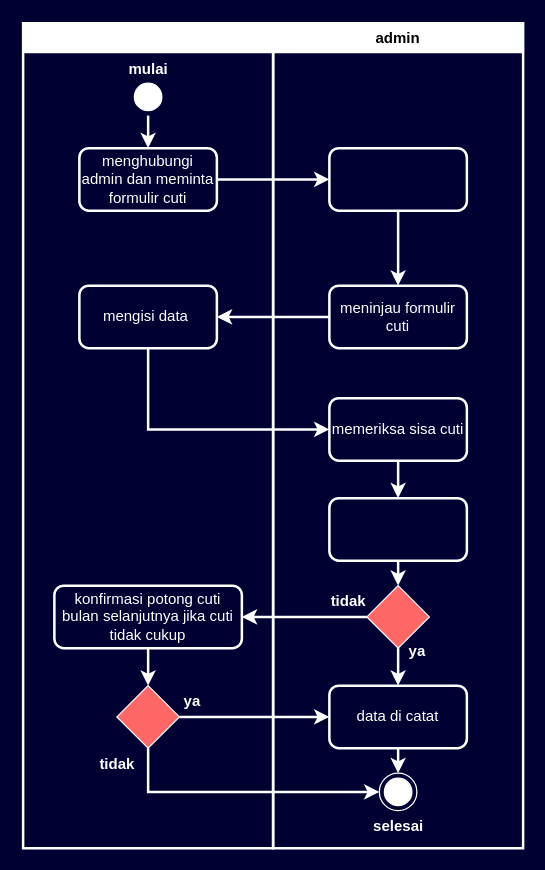
Image size: 545x870. Some labels were removed from this diagram. The box of each missing label's shape, as (x1, y1, x2, y2) in pixels:
karyawan: (21, 21, 274, 849)
memberikan formulir cuti: (328, 146, 468, 211)
sisa cuti cukup: (328, 496, 468, 561)
